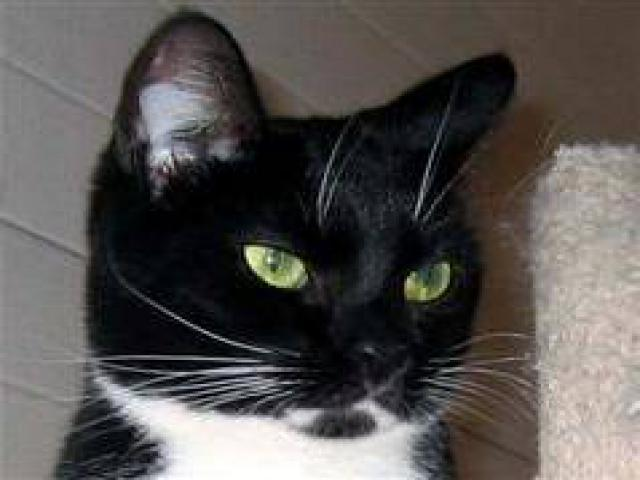cat: (40, 11, 540, 479)
